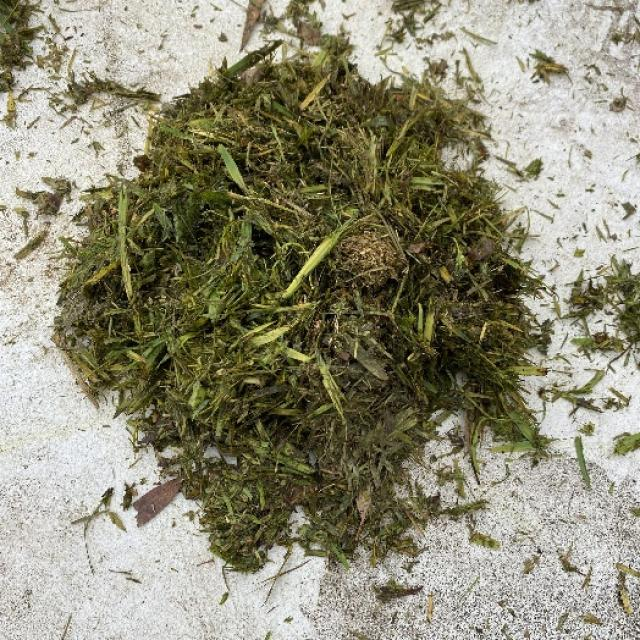organik: (66, 49, 546, 563)
